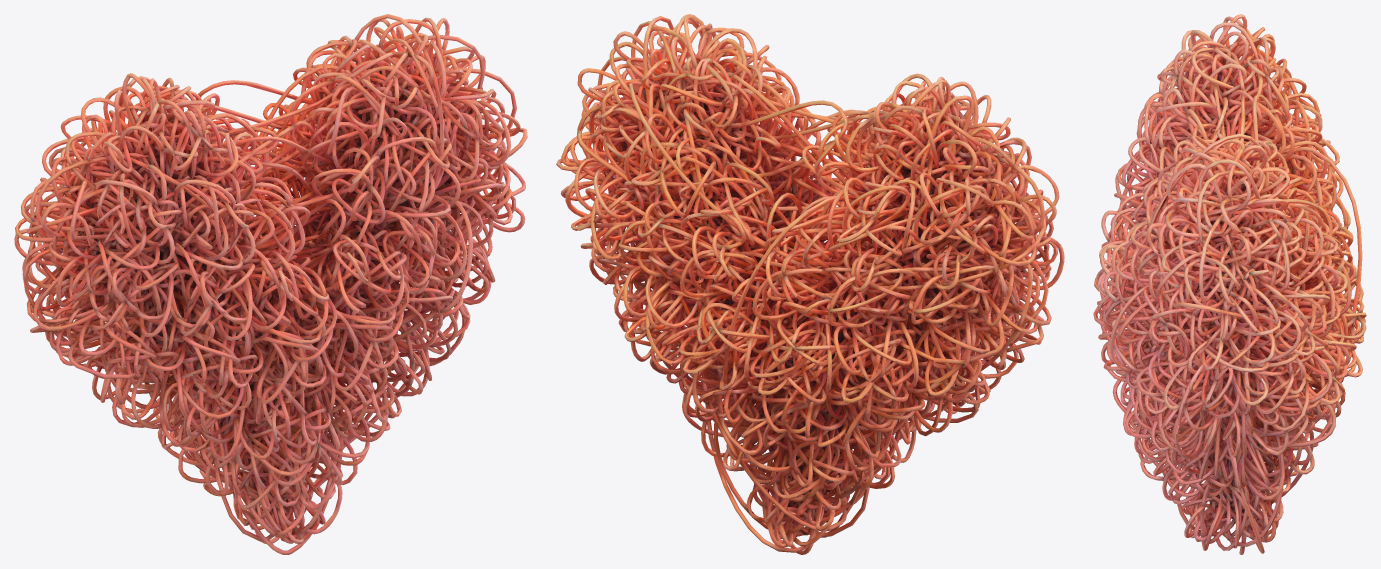
Rendered from heart_compressed.glb.
3 views of the same model, side by side, from view 1: azimuth 30°, elevation 25°; view 2: azimuth 150°, elevation 25°; view 3: azimuth 270°, elevation 25° (orthographic). The views are drawn at different scales.
Parts seen in each view (by area): view 1: Target_0; view 2: Target_0; view 3: Target_0.
Part boxes in pixels (box(x1,y1,x2,y2)): Target_0: box(14, 14, 527, 554); Target_0: box(556, 14, 1064, 554); Target_0: box(1093, 14, 1366, 554).
Size of the model in its own units: 6.36 by 6.36 by 3.31.
1 material, 1 textured.
